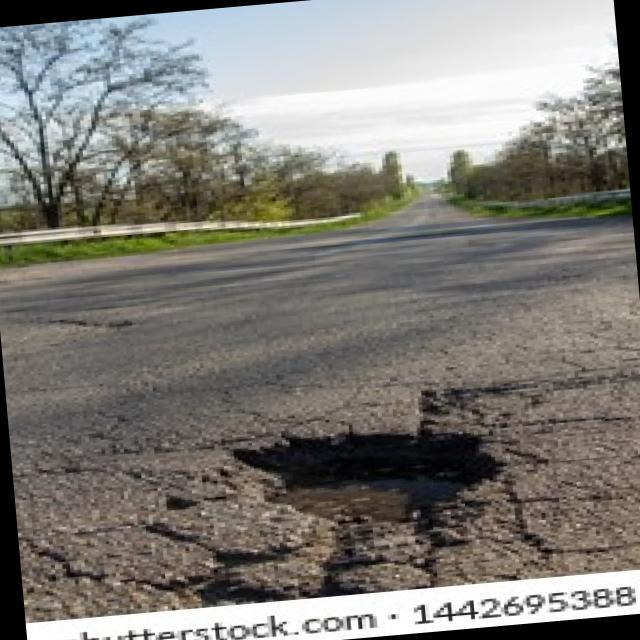Pothole: (213, 410, 522, 542)
